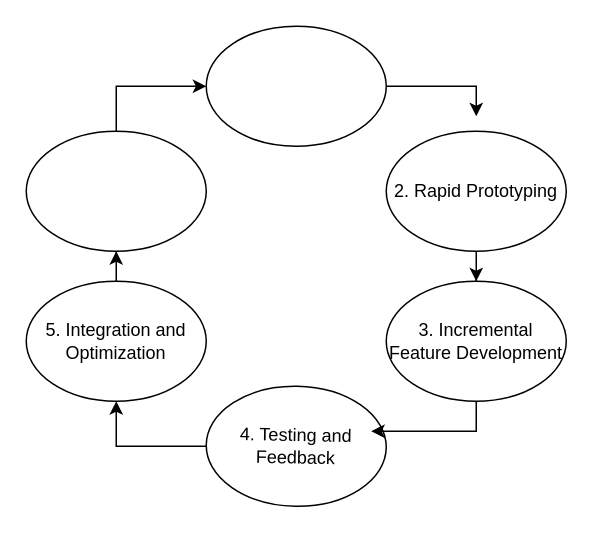
Some shapes in this 593 by 536 pixel diagram are drawn without their labels. Each missing label, with the box of its shape:
1. Requirement Planning: (205, 25, 386, 146)
6. Final Polishing and Maintenance: (25, 130, 206, 251)
